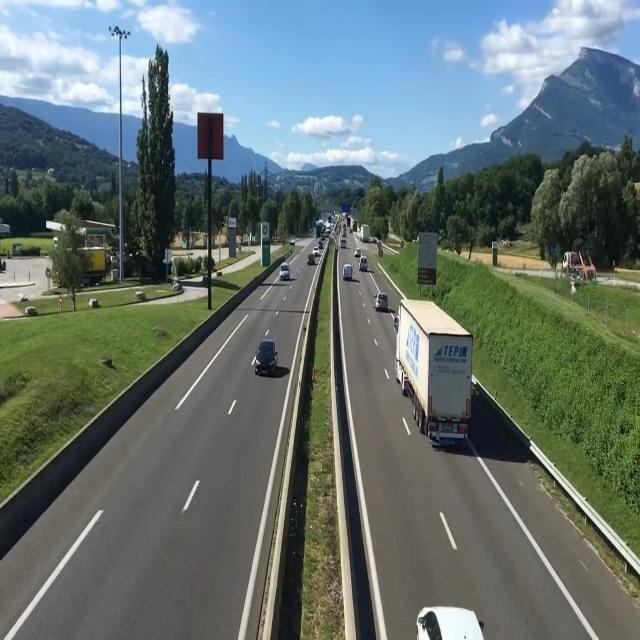car: (412, 591, 491, 640), (253, 332, 280, 378), (372, 287, 391, 316), (278, 259, 292, 284), (358, 252, 372, 276), (343, 262, 356, 284), (304, 250, 318, 270)
truck: (394, 290, 470, 459), (560, 239, 596, 290)
